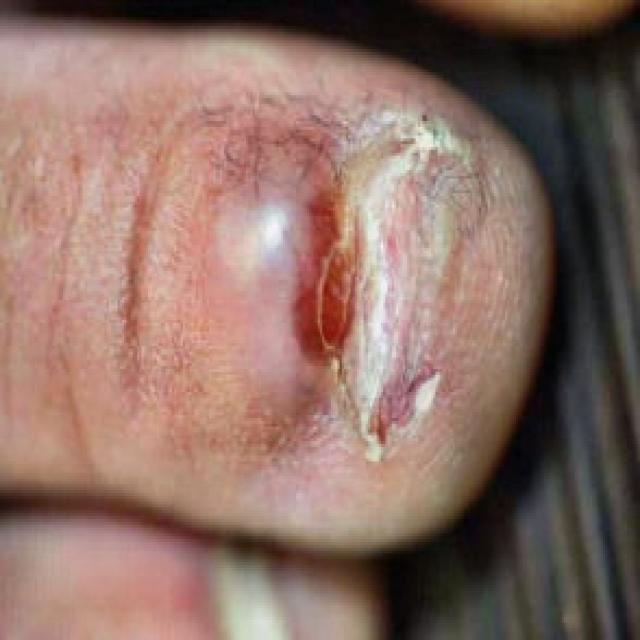Seborrheic-Keratoses-and-other-Benign-Tumors: (162, 72, 507, 505)
